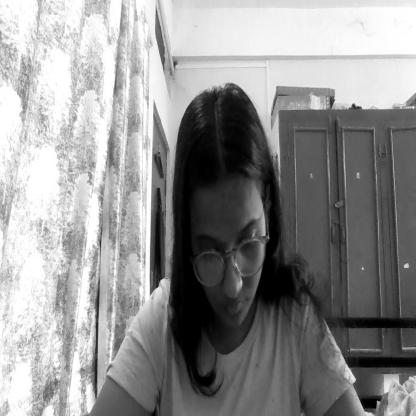Distracted: (176, 91, 268, 330)
